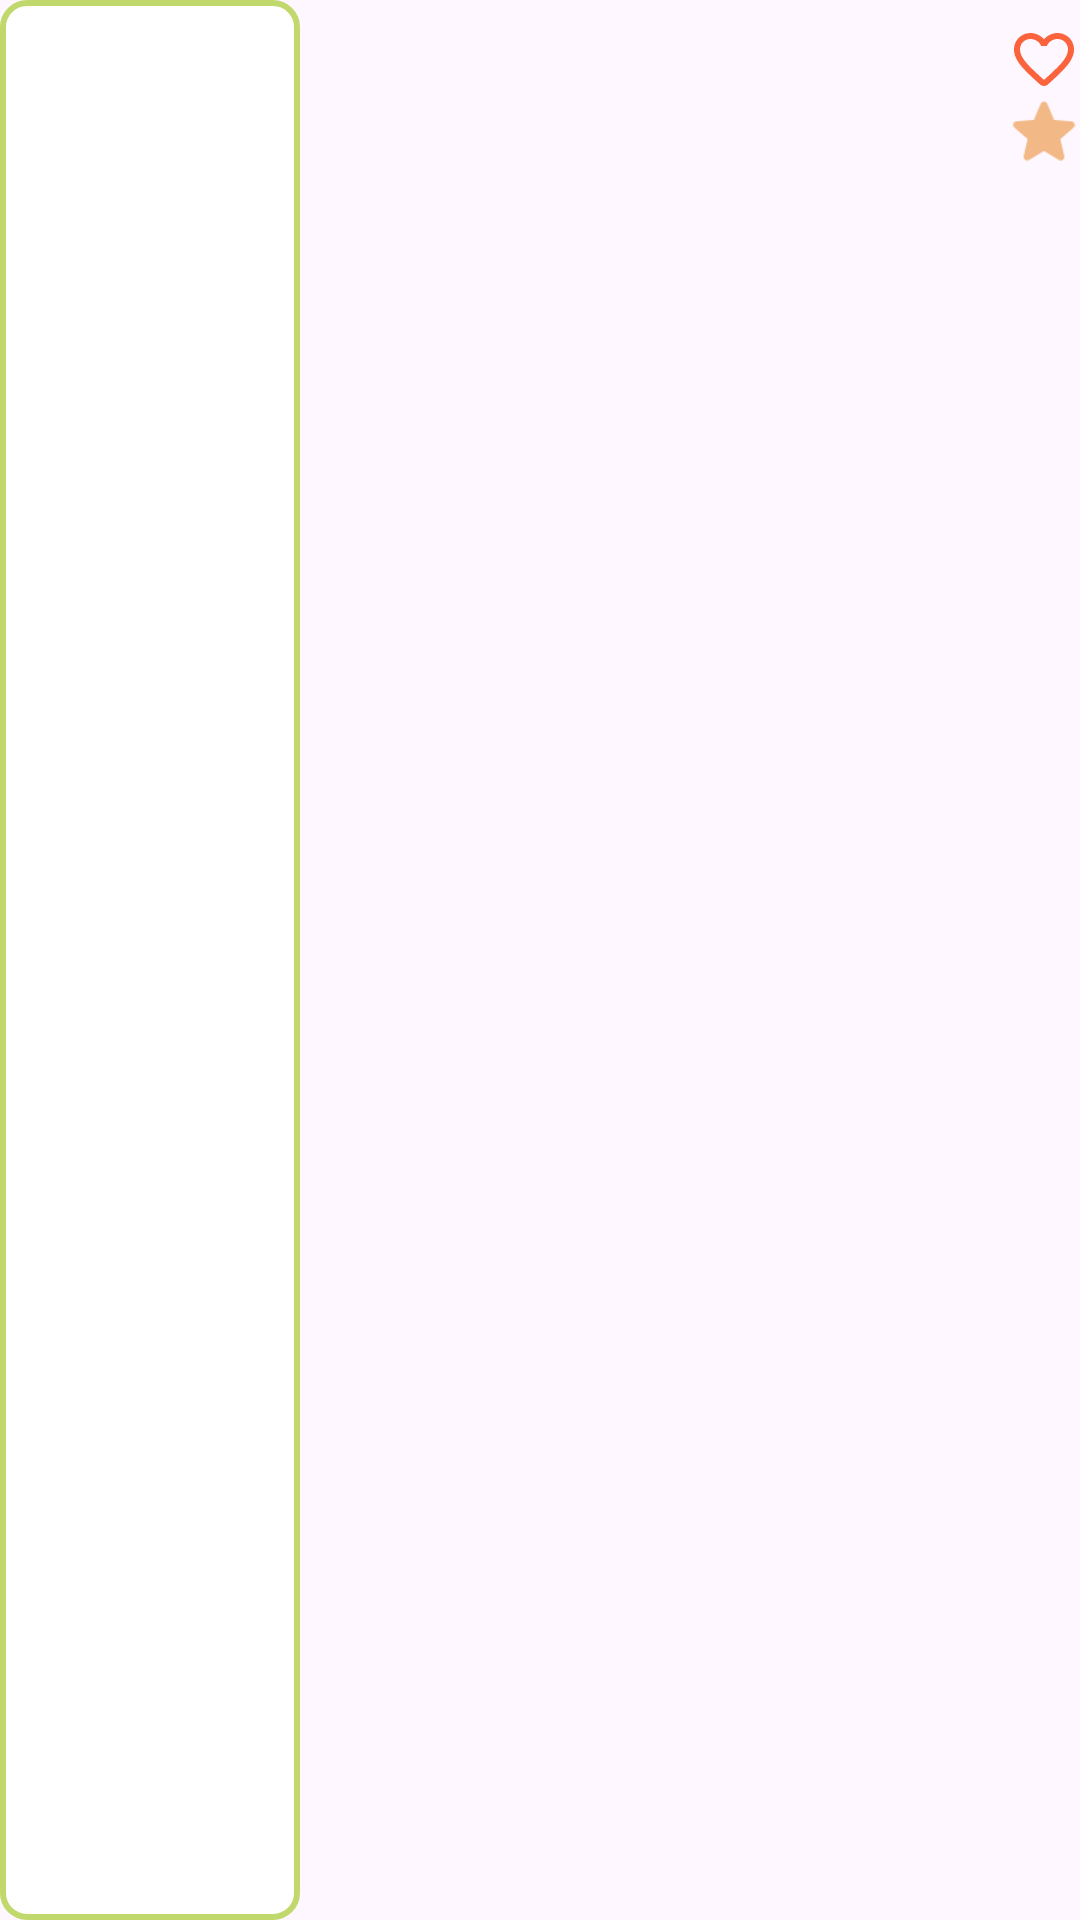

Where icons sit on this 1080*1920 app screen, as (x1=x1, y1=y1, x2=x2, y2=y2):
Button like: (x1=1014, y1=33, x2=1074, y2=86)
